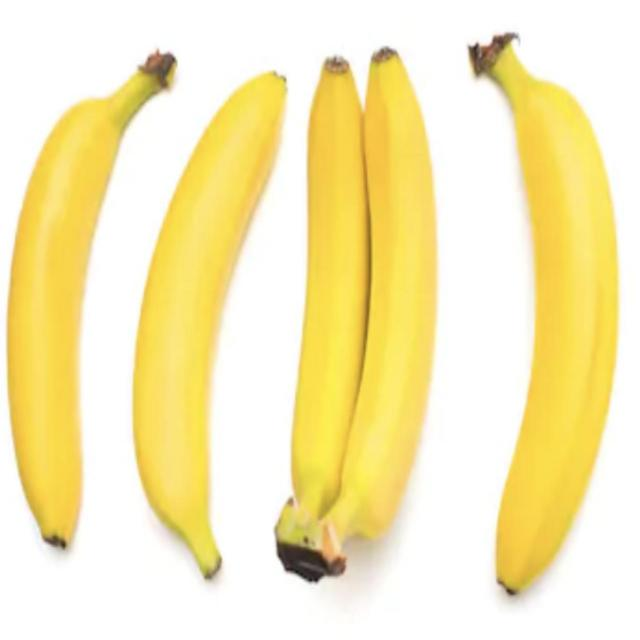banana: (0, 37, 173, 573), (136, 6, 270, 625), (487, 21, 604, 596), (359, 34, 447, 560), (282, 18, 356, 574)
